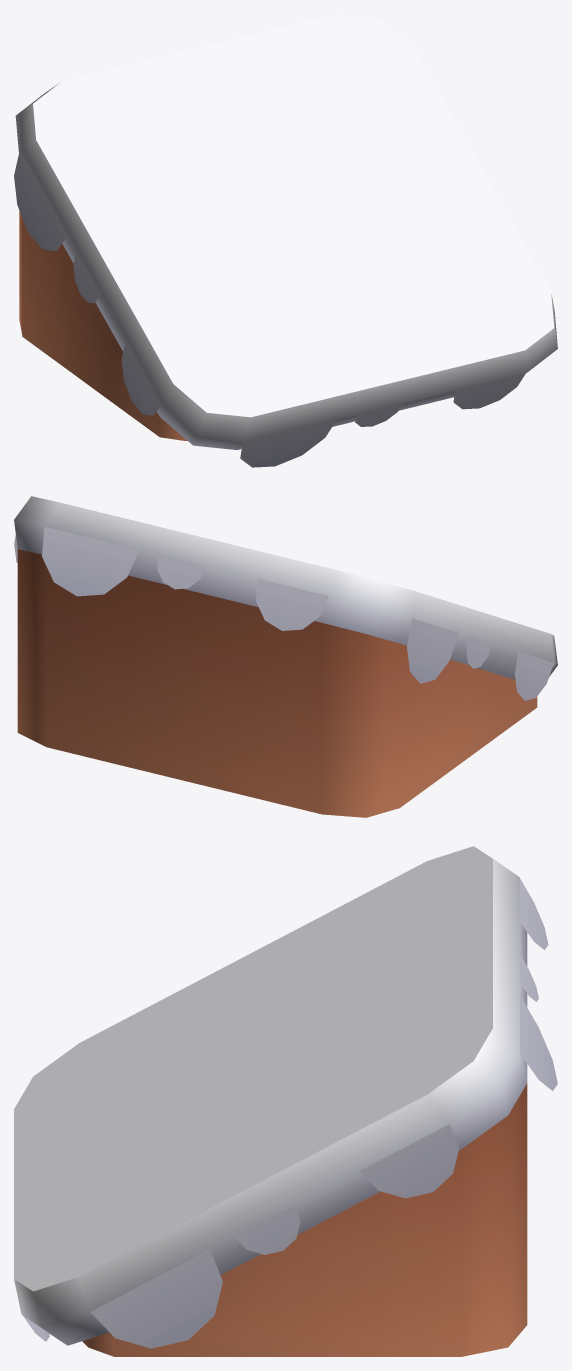
The model's file is kenney-platformer-block-snow-overhang-large-slope-steep.glb.
3 renders of one model, top to bottom at view 1: azimuth 30°, elevation 25°; view 2: azimuth 150°, elevation 25°; view 3: azimuth 270°, elevation 25°, orthographic. The views are drawn at different scales.
Parts seen in each view (by area): view 1: block-snow-overhang-large-slope-steep; view 2: block-snow-overhang-large-slope-steep; view 3: block-snow-overhang-large-slope-steep.
Boxes of the visible parts, bbox=[...] form: block-snow-overhang-large-slope-steep: bbox=[14, 14, 557, 467]; block-snow-overhang-large-slope-steep: bbox=[14, 496, 557, 817]; block-snow-overhang-large-slope-steep: bbox=[14, 846, 557, 1356].
Bounding box in the file's own units: 2.08 × 1.37 × 1.97.
1 material, 1 textured.
